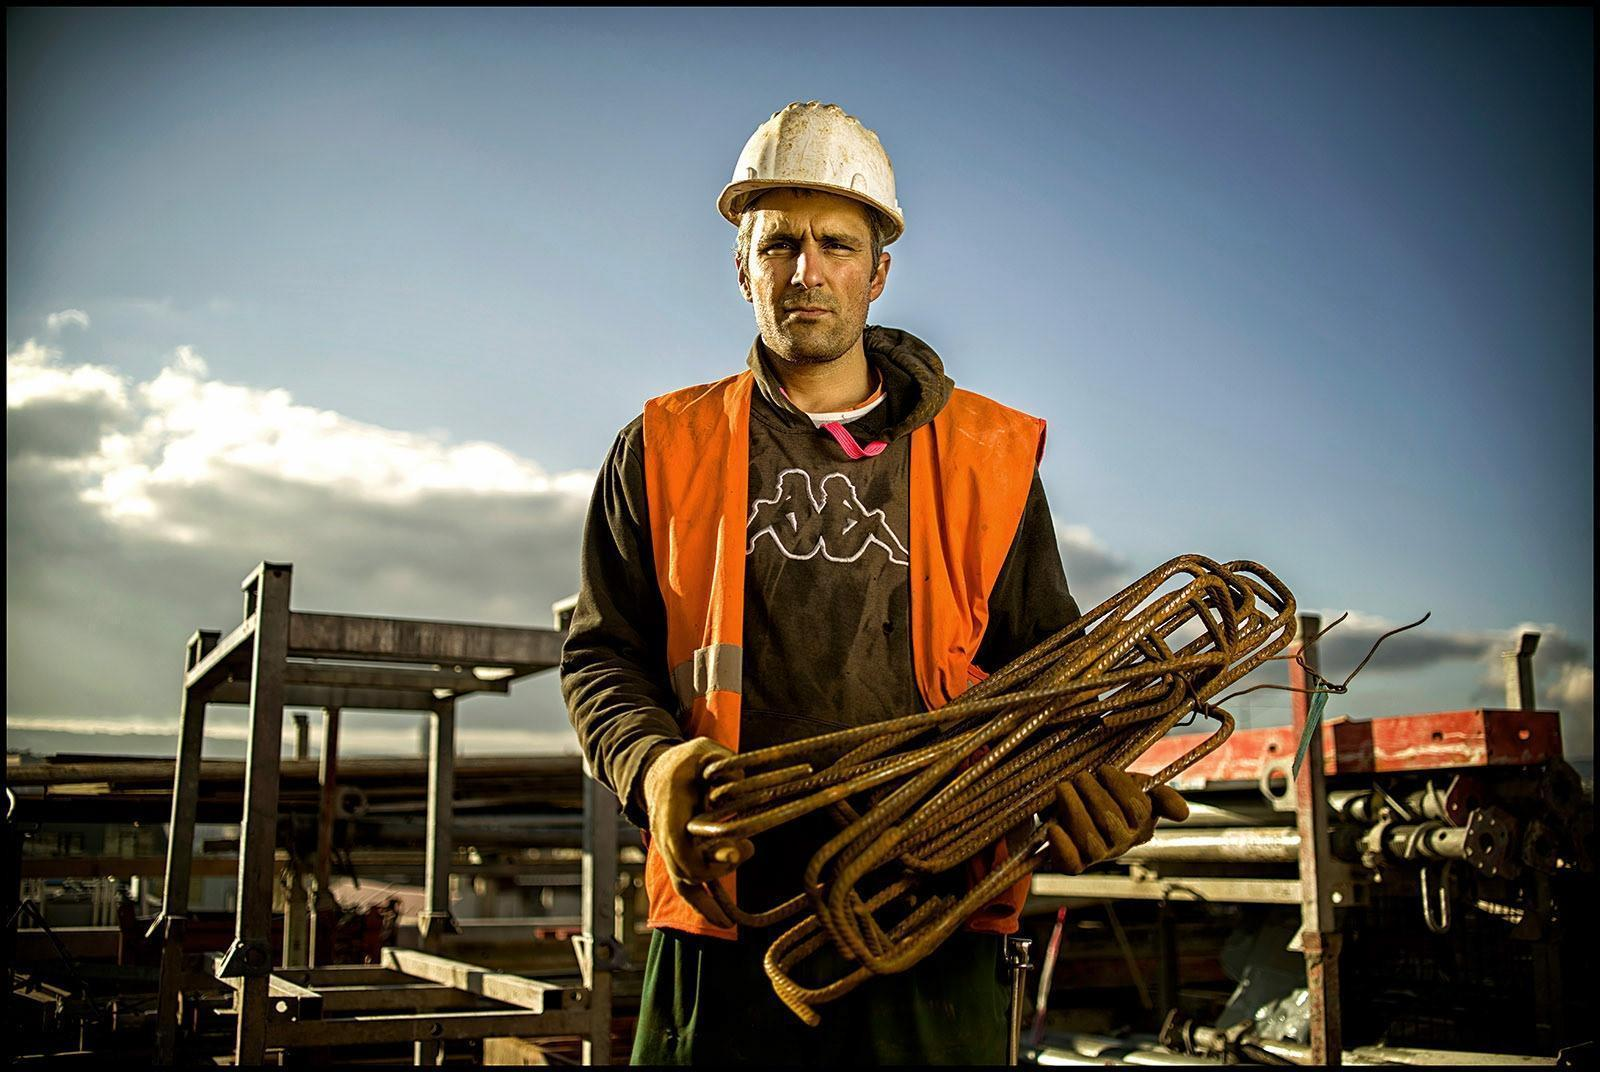helmet: (722, 99, 902, 211)
